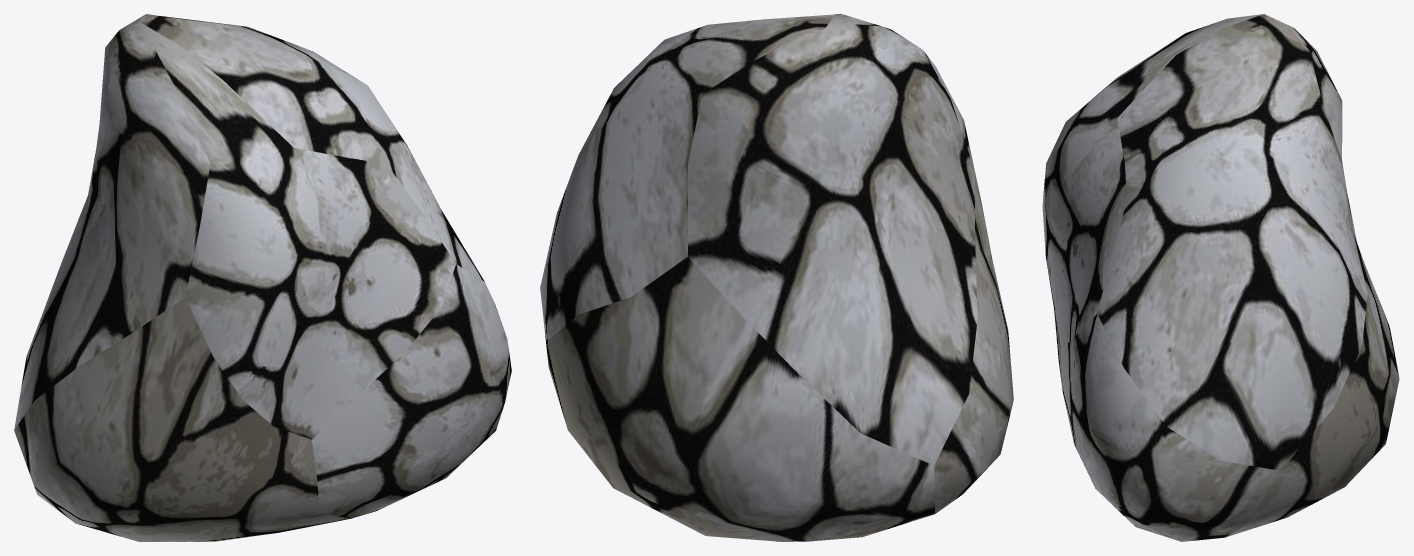
The picture shows the model from 3 angles, left to right: view 1: azimuth 30°, elevation 25°; view 2: azimuth 150°, elevation 25°; view 3: azimuth 270°, elevation 25°; orthographic projection. The views are drawn at different scales.
Parts seen in each view (by area): view 1: Mossy_Rock_2; view 2: Mossy_Rock_2; view 3: Mossy_Rock_2.
Boxes of the visible parts, x1=… form: Mossy_Rock_2: x1=14, y1=14, x2=511, y2=541; Mossy_Rock_2: x1=540, y1=14, x2=1013, y2=541; Mossy_Rock_2: x1=1042, y1=14, x2=1399, y2=541.
Size of the model in its own units: 1.95 by 2.08 by 1.53.
